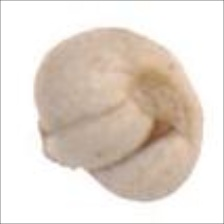L5: (37, 101, 157, 177), (120, 62, 205, 144)
L6: (31, 25, 204, 204)
